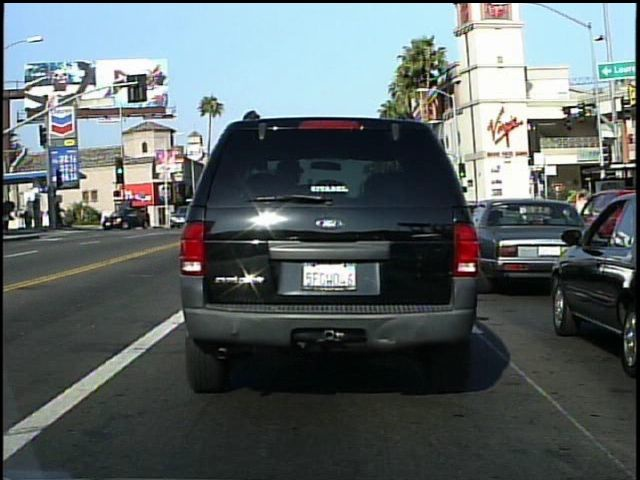person: (574, 188, 594, 246), (3, 199, 17, 237)
